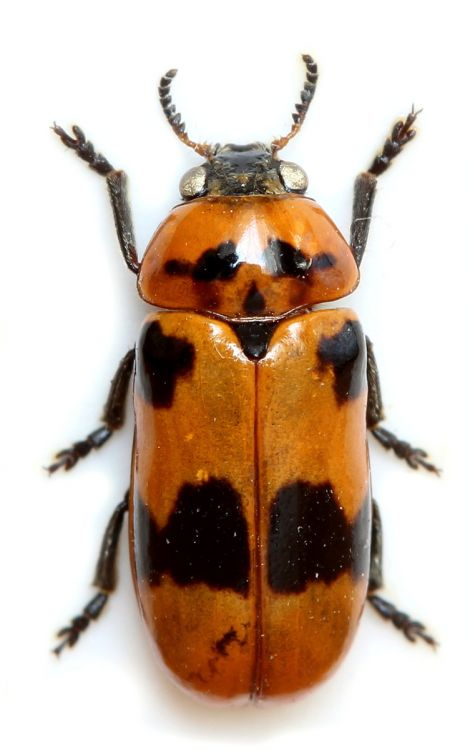Clytra_novempunctata: (22, 46, 446, 707)
